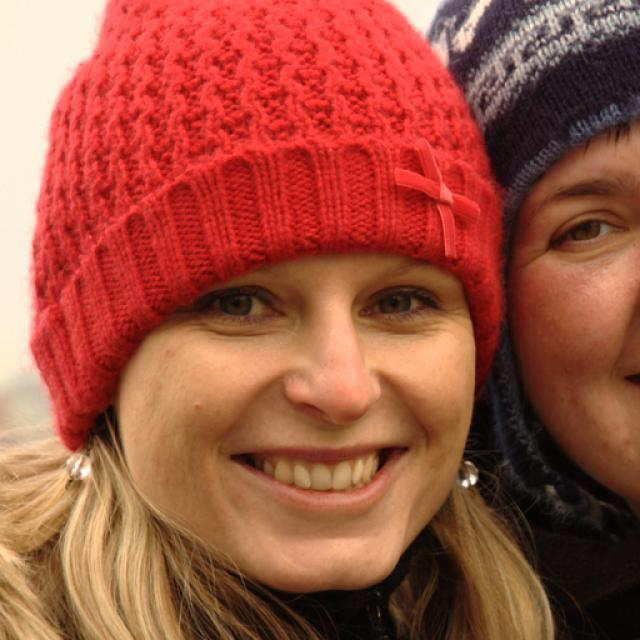Acne: (188, 397, 203, 416), (161, 342, 175, 359)
